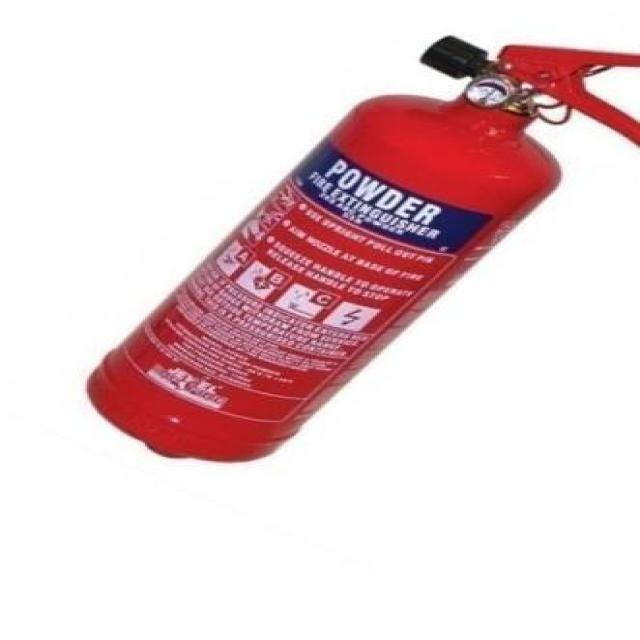fire_extinguisher: (75, 32, 638, 467)
